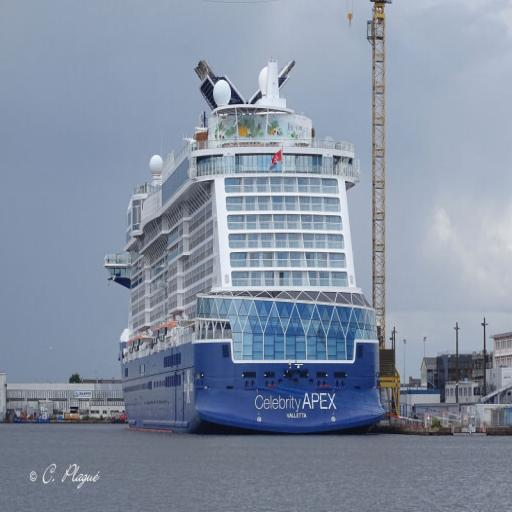cruises: (102, 51, 388, 445)
